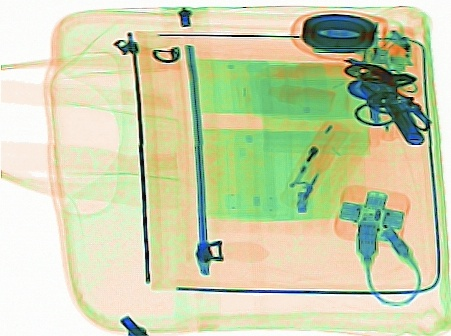lighter: (278, 113, 352, 213), (385, 21, 417, 68)
